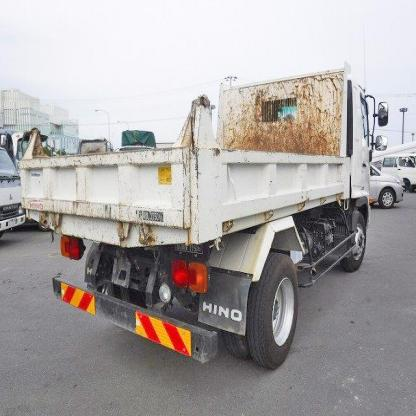dump_truck: (22, 54, 411, 372)
